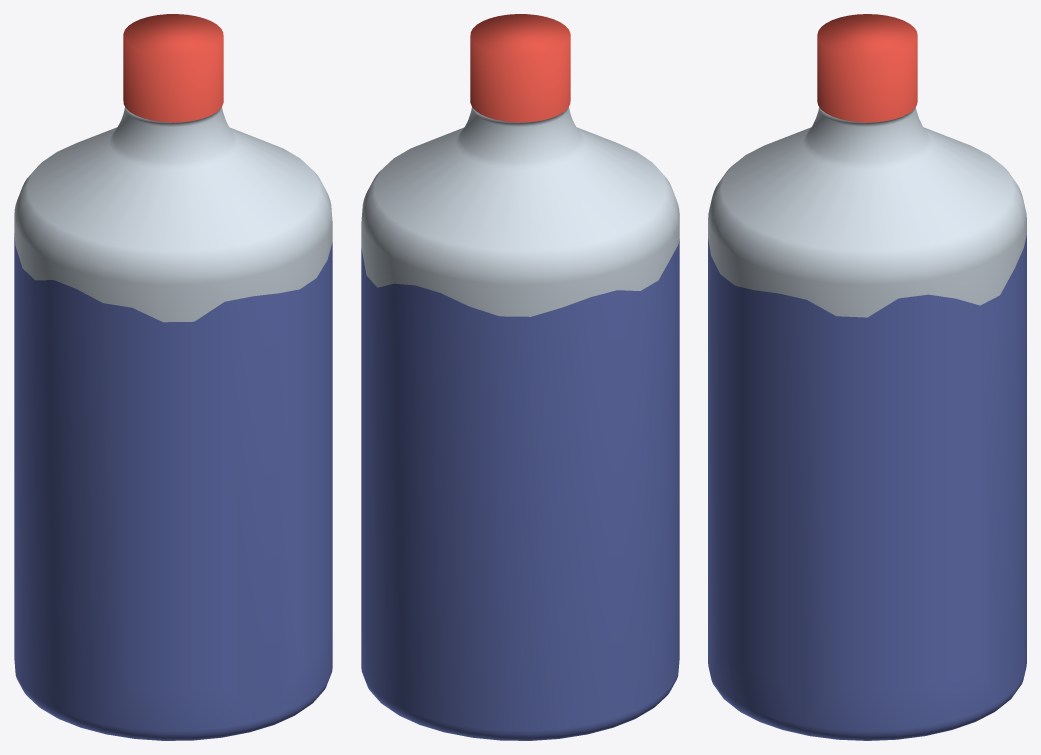
File: eau3.gltf
3 renders of one model, left to right at view 1: azimuth 30°, elevation 25°; view 2: azimuth 150°, elevation 25°; view 3: azimuth 270°, elevation 25°, orthographic.
Visible parts, largest first — view 1: Cube.001; view 2: Cube.001; view 3: Cube.001.
Boxes of the visible parts, left/top/right/bottom form: Cube.001: left=14, top=14, right=332, bottom=740; Cube.001: left=361, top=14, right=679, bottom=740; Cube.001: left=708, top=14, right=1026, bottom=740.
Size of the model in its own units: 1.46 by 3.24 by 1.46.
